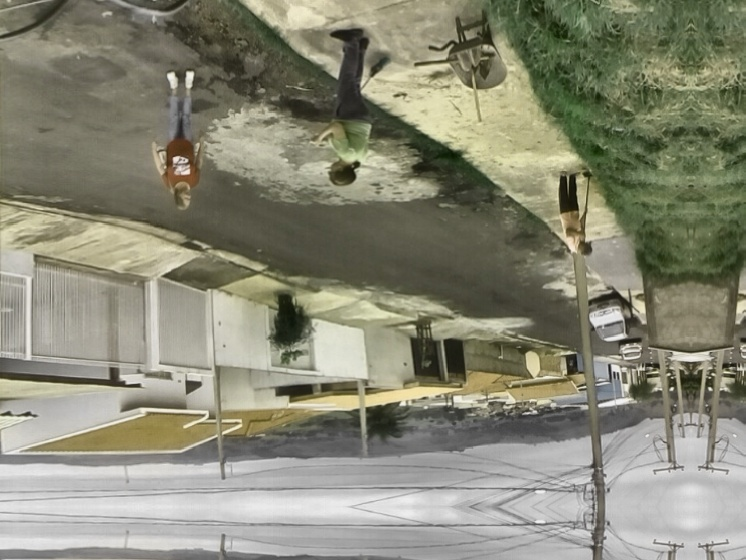person: (310, 30, 376, 186), (150, 66, 205, 212), (557, 169, 593, 256)
